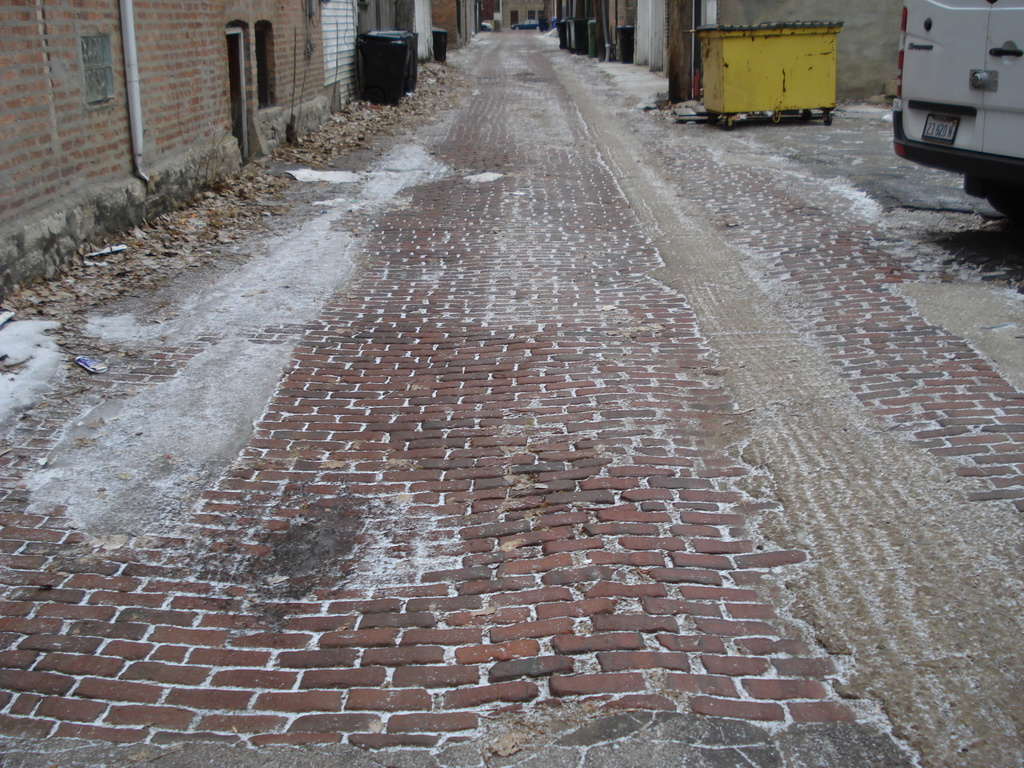Car: (884, 0, 1023, 225)
